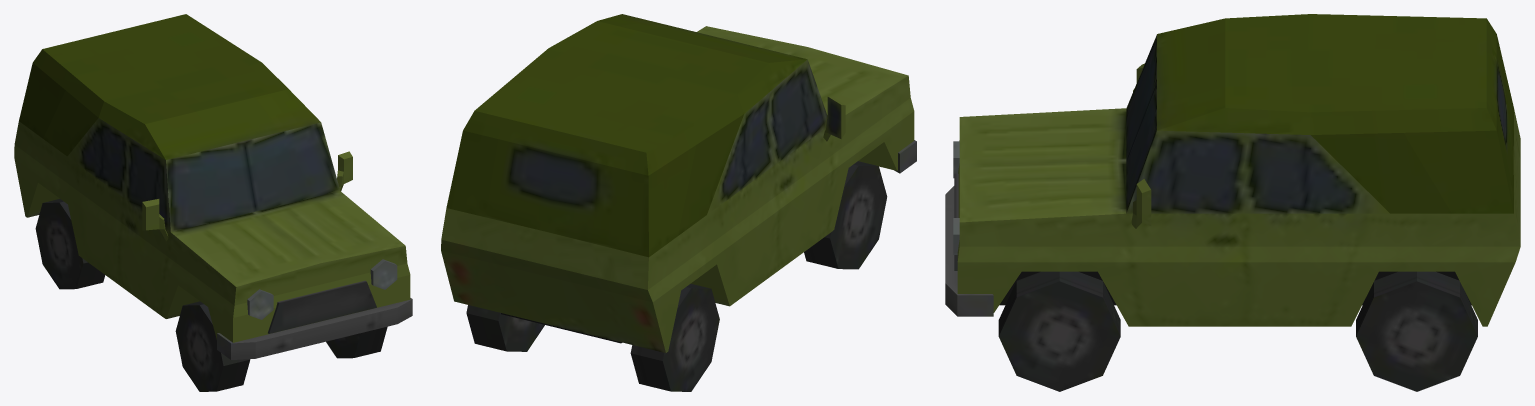
The model's file is mil-jeep.lod0.glb.
The picture shows the model from 3 angles, left to right: view 1: azimuth 30°, elevation 25°; view 2: azimuth 150°, elevation 25°; view 3: azimuth 270°, elevation 25°; orthographic projection. The views are drawn at different scales.
Parts seen in each view (by area): view 1: UAZ_UAZ_0; view 2: UAZ_UAZ_0; view 3: UAZ_UAZ_0.
Part boxes in pixels (x1,y1,x2,y2): UAZ_UAZ_0: (14,14,412,391); UAZ_UAZ_0: (441,14,916,391); UAZ_UAZ_0: (945,14,1520,391).
Size of the model in its own units: 2.12 by 2.13 by 4.
Materials: 1 (1 with a texture image).
